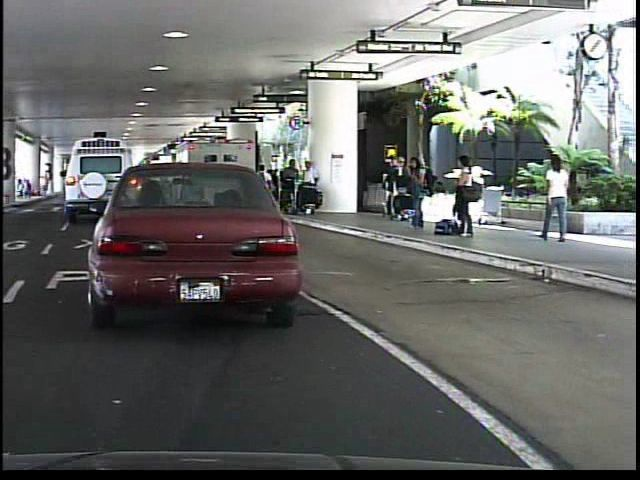person: (536, 154, 574, 244), (447, 151, 476, 239)
